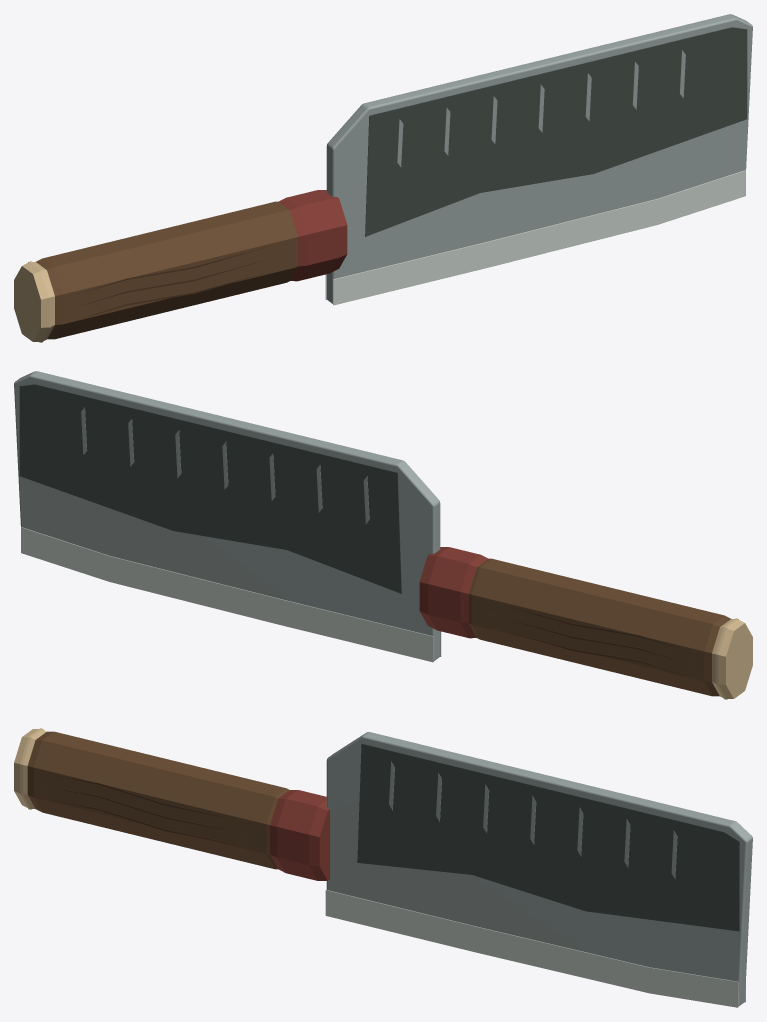
The model's file is nakiri.glb.
3 views of the same model, one above another, from view 1: azimuth 30°, elevation 25°; view 2: azimuth 150°, elevation 25°; view 3: azimuth 330°, elevation 25° (orthographic).
Visible parts, largest first — view 1: Nakiri retained dark forged shoulder, Nakiri squared vegetable blade, Nakiri substantial octagonal walnut grip, Nakiri long double-sided polished bevel, Nakiri oxblood octagonal ferrule, Nakiri pale maple butt cap, Nakiri quiet walnut grain; view 2: Nakiri retained dark forged shoulder, Nakiri squared vegetable blade, Nakiri substantial octagonal walnut grip, Nakiri long double-sided polished bevel, Nakiri oxblood octagonal ferrule, Nakiri pale maple butt cap, Nakiri quiet walnut grain; view 3: Nakiri retained dark forged shoulder, Nakiri squared vegetable blade, Nakiri substantial octagonal walnut grip, Nakiri long double-sided polished bevel, Nakiri oxblood octagonal ferrule, Nakiri pale maple butt cap, Nakiri quiet walnut grain.
Boxes of the visible parts, <box> form: Nakiri retained dark forged shoulder: <box>365,27,747,236</box>; Nakiri squared vegetable blade: <box>326,14,752,303</box>; Nakiri substantial octagonal walnut grip: <box>36,201,297,339</box>; Nakiri long double-sided polished bevel: <box>325,170,745,305</box>; Nakiri oxblood octagonal ferrule: <box>278,190,347,281</box>; Nakiri pale maple butt cap: <box>14,261,54,342</box>; Nakiri quiet walnut grain: <box>70,244,276,321</box>; Nakiri retained dark forged shoulder: <box>19,384,401,593</box>; Nakiri squared vegetable blade: <box>14,371,440,660</box>; Nakiri substantial octagonal walnut grip: <box>469,558,730,696</box>; Nakiri long double-sided polished bevel: <box>21,527,441,662</box>; Nakiri oxblood octagonal ferrule: <box>419,547,488,638</box>; Nakiri pale maple butt cap: <box>712,618,752,699</box>; Nakiri quiet walnut grain: <box>490,601,696,678</box>; Nakiri retained dark forged shoulder: <box>357,743,739,931</box>; Nakiri squared vegetable blade: <box>326,732,752,1005</box>; Nakiri substantial octagonal walnut grip: <box>27,731,289,869</box>; Nakiri long double-sided polished bevel: <box>325,890,745,1007</box>; Nakiri oxblood octagonal ferrule: <box>270,790,329,880</box>; Nakiri pale maple butt cap: <box>14,728,46,809</box>; Nakiri quiet walnut grain: <box>41,772,247,847</box>.
Size of the model in its own units: 2.61 by 0.65 by 0.1848.
